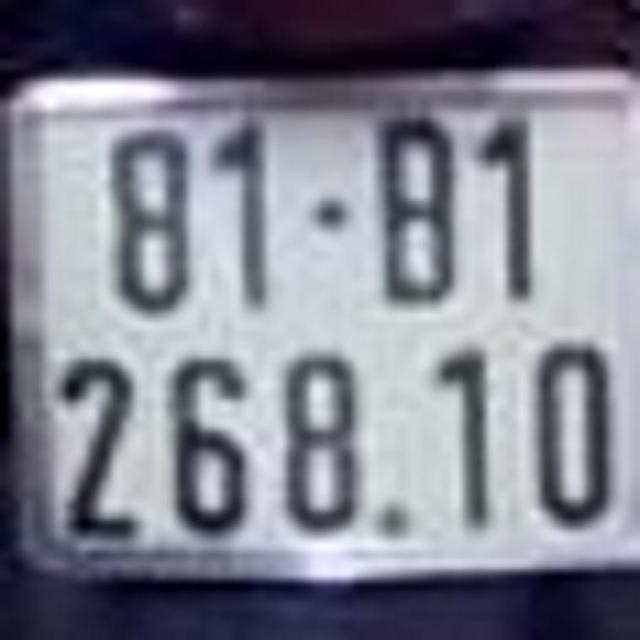0: (540, 346, 607, 519)
1: (481, 106, 543, 296), (214, 119, 269, 308), (440, 349, 491, 528)
2: (60, 360, 145, 541)
6: (167, 359, 250, 532)
8: (109, 132, 190, 311), (283, 356, 360, 524)
B: (383, 120, 452, 298)
